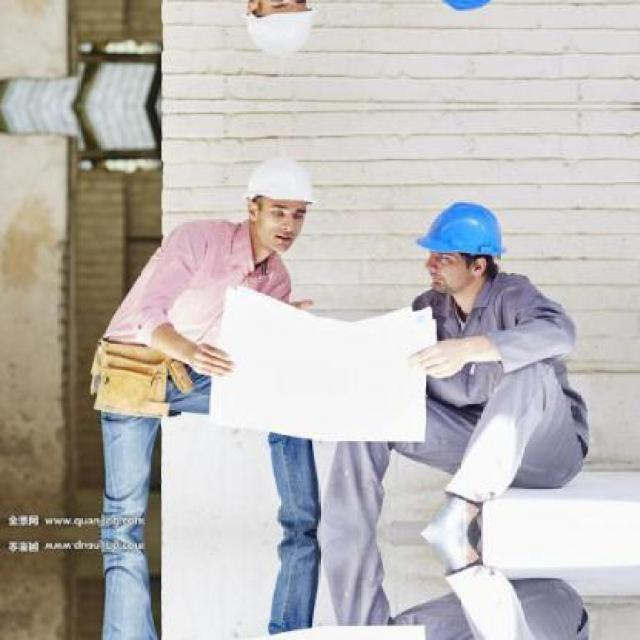helmet: (410, 186, 510, 300), (239, 149, 324, 257), (238, 0, 324, 65), (409, 0, 511, 28)
